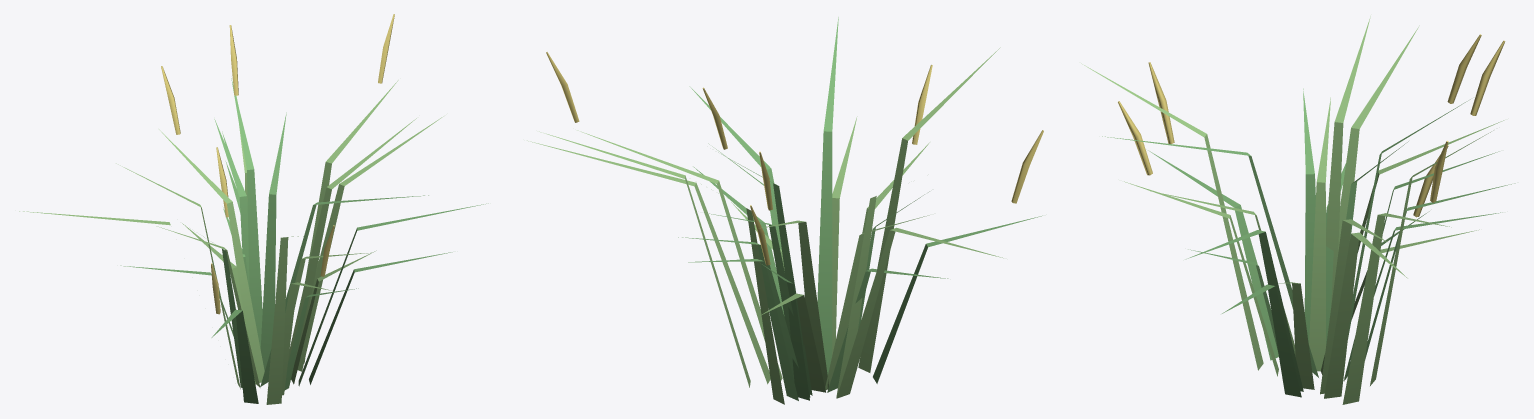
Rendered from strandgras_1.glb.
3 views of the same model, side by side, from view 1: azimuth 30°, elevation 25°; view 2: azimuth 150°, elevation 25°; view 3: azimuth 270°, elevation 25° (orthographic). The views are drawn at different scales.
Visible parts, largest first — view 1: G_strandgras_1; view 2: G_strandgras_1; view 3: G_strandgras_1.
Part boxes in pixels (x1,y1,x2,y2): G_strandgras_1: [19, 14, 488, 404]; G_strandgras_1: [527, 17, 1043, 404]; G_strandgras_1: [1081, 16, 1515, 404].
Bounding box in the file's own units: 2.25 × 1.51 × 1.68.
